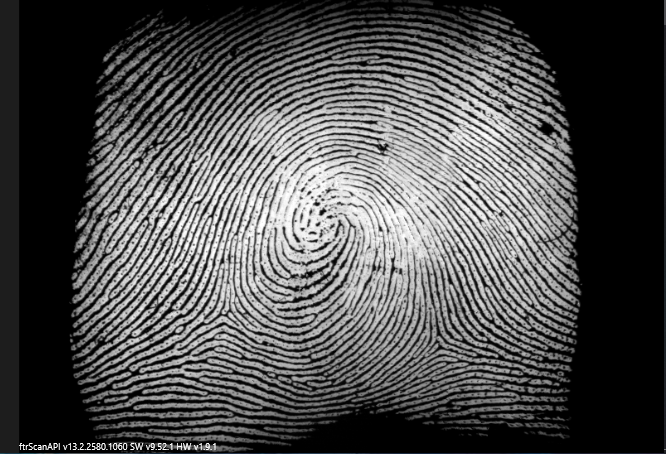nucelo: (290, 202, 340, 241)
verticilo: (208, 291, 239, 330), (421, 326, 453, 358)
